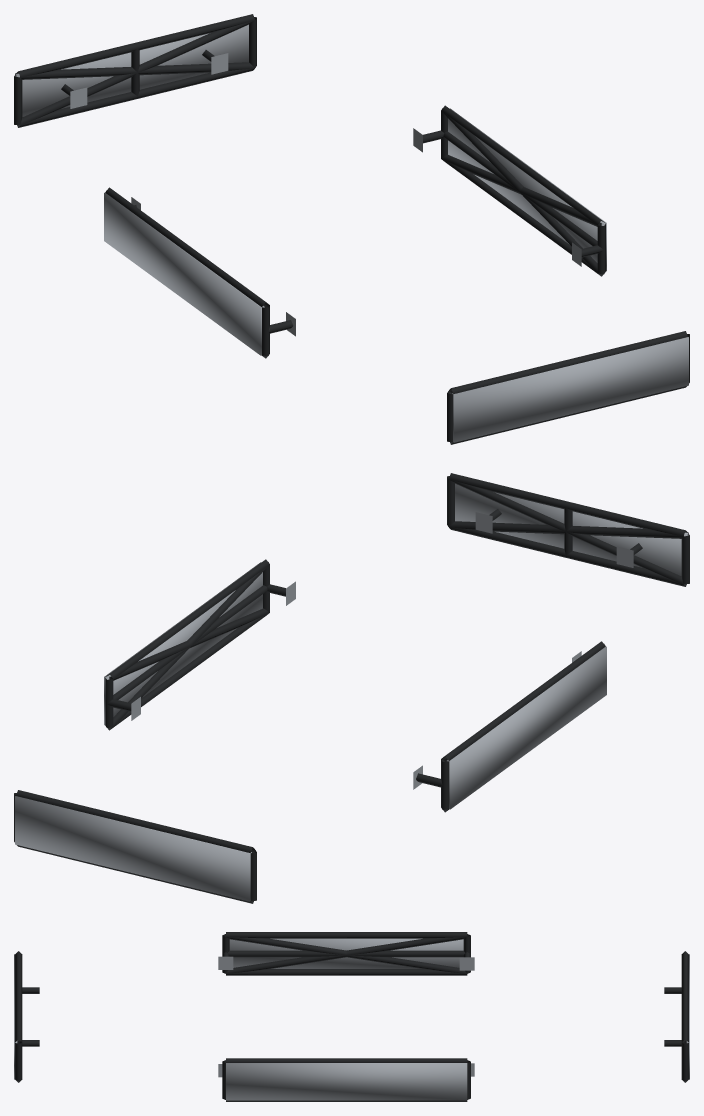
The model's file is corsalto_helios_protecao.glb.
3 views of the same model, one above another, from view 1: azimuth 30°, elevation 25°; view 2: azimuth 150°, elevation 25°; view 3: azimuth 270°, elevation 25° (orthographic). The views are drawn at different scales.
Visible parts, largest first — view 1: Protection_front_Level3_Details, Protection_left_Level3_Details, Protection_rear_Level3_Details, Protection_rear_Level1_Details, Protection_right_Level1_Details, Protection_rear_Level2_Details, Protection_right_Level2_Details, Protection_right_Level3_Details, Protection_front_Level1_Details, Protection_left_Level1_Details; view 2: Protection_rear_Level3_Details, Protection_left_Level3_Details, Protection_front_Level3_Details, Protection_front_Level1_Details, Protection_right_Level1_Details, Protection_front_Level2_Details, Protection_right_Level2_Details, Protection_right_Level3_Details, Protection_rear_Level1_Details, Protection_left_Level1_Details; view 3: Protection_right_Level3_Details, Protection_left_Level2_Details, Protection_left_Level1_Details, Protection_left_Level3_Details, Protection_right_Level1_Details, Protection_rear_Level1_Details, Protection_front_Level1_Details.
Boxes of the visible parts, x1,y1,x2,y2 form: Protection_front_Level3_Details: (452, 337, 688, 442); Protection_left_Level3_Details: (104, 192, 264, 355); Protection_rear_Level3_Details: (15, 24, 248, 117); Protection_rear_Level1_Details: (14, 14, 256, 127); Protection_right_Level1_Details: (413, 105, 605, 276); Protection_rear_Level2_Details: (16, 20, 254, 126); Protection_right_Level2_Details: (441, 111, 605, 276); Protection_right_Level3_Details: (448, 108, 606, 271); Protection_front_Level1_Details: (447, 331, 689, 444); Protection_left_Level1_Details: (105, 187, 295, 358); Protection_rear_Level3_Details: (15, 796, 251, 901); Protection_left_Level3_Details: (446, 646, 606, 809); Protection_front_Level3_Details: (455, 483, 688, 576); Protection_front_Level1_Details: (447, 473, 689, 586); Protection_right_Level1_Details: (105, 559, 295, 730); Protection_front_Level2_Details: (449, 479, 687, 585); Protection_right_Level2_Details: (106, 565, 269, 729); Protection_right_Level3_Details: (104, 562, 262, 725); Protection_rear_Level1_Details: (14, 790, 256, 903); Protection_left_Level1_Details: (413, 641, 605, 812); Protection_right_Level3_Details: (226, 1063, 467, 1100); Protection_left_Level2_Details: (225, 934, 466, 973); Protection_left_Level1_Details: (218, 932, 474, 975); Protection_left_Level3_Details: (229, 938, 463, 968); Protection_right_Level1_Details: (218, 1058, 474, 1101); Protection_rear_Level1_Details: (664, 951, 688, 1082); Protection_front_Level1_Details: (15, 951, 39, 1082).
Size of the model in its own units: 2.26 by 0.354 by 4.96.
1 material, 1 textured.
